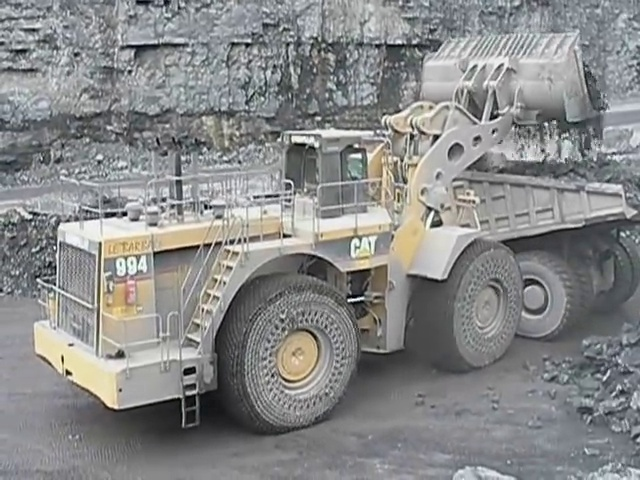dumper: (353, 123, 636, 339)
wheel loader: (30, 30, 607, 433)
